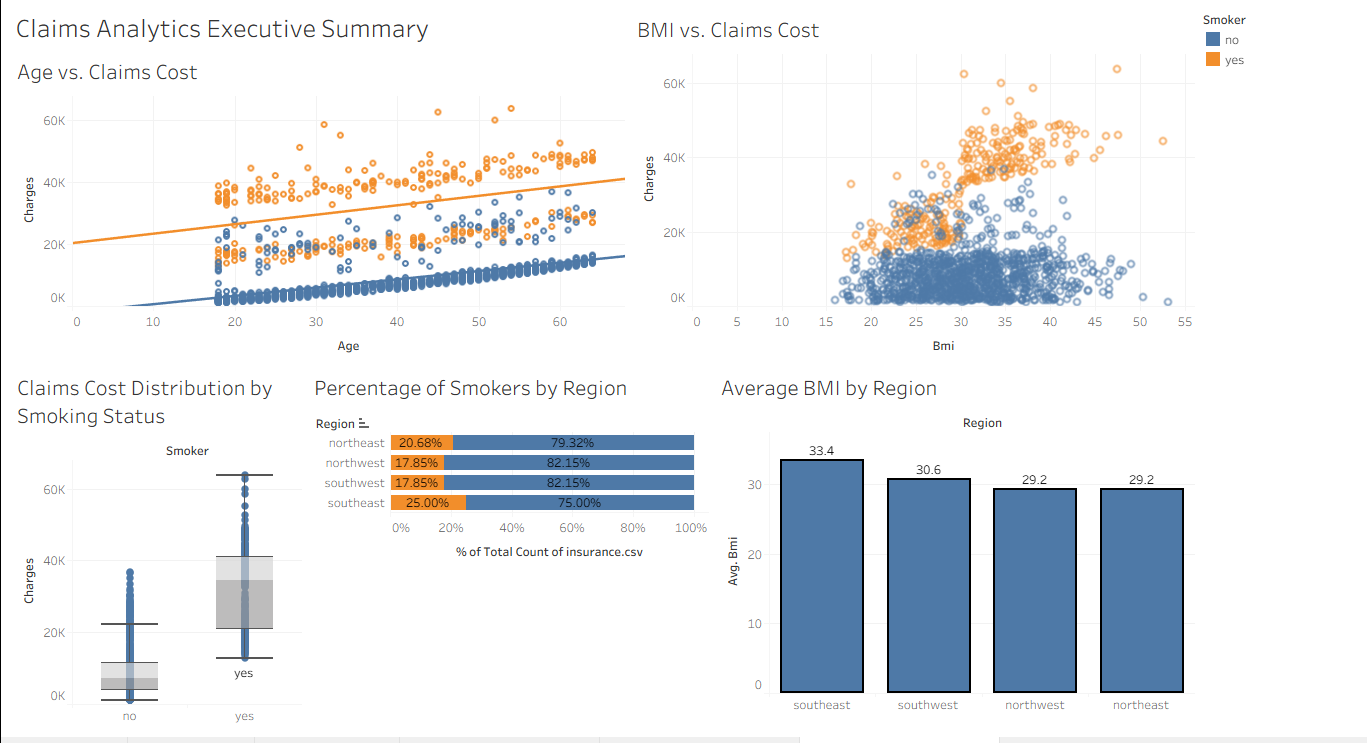

The dashboard page shown, as its layout file describes it:
{"tool":"tableau","page":{"name":"Claims Analytics Executive Summary","canvas":[1000,1000],"units":"permille","ordinal":0},"visuals":[{"type":"title","box":[6,13.5,443.3,70.9]},{"type":"worksheet","title":"BMI vs. Claims Cost","mark":"Automatic","rows":["charges"],"cols":["bmi"],"box":[449.3,13.5,425.4,483]},{"type":"legend","title":"Percentage of Smokers by Region","param":"[federated.0zg9l2d08l8def1gbhsea1u9wj7l].[none:smoker:nk]","box":[874.6,13.5,119.4,111.5]},{"type":"worksheet","title":"Age vs. Claims Cost","mark":"Automatic","rows":["charges"],"cols":["age"],"box":[6,84.5,443.3,412]},{"type":"worksheet","title":"Claims Cost Distribution by Smoking Status","mark":"Circle","rows":["charges"],"cols":["smoker"],"box":[6,496.5,217.1,490]},{"type":"worksheet","title":"Percentage of Smokers by Region","mark":"Automatic","rows":["region"],"box":[223,496.5,297,490]},{"type":"worksheet","title":"Average BMI by Region","mark":"Automatic","rows":["bmi"],"cols":["region"],"box":[520.1,496.5,354.6,490]}]}

Visuals, with their boxes on the dashboard's canvas, which has no fixed pixel size, in thousandths of its width and height (x1, y1, x2, y2). These are canvas units, not pixel positions in the 1367x743 screenshot, which may show the page scaled, cropped or inside an application window:
title: 6,14,449,84
"BMI vs. Claims Cost" worksheet: 449,14,875,496
"Percentage of Smokers by Region" legend: 875,14,994,125
"Age vs. Claims Cost" worksheet: 6,84,449,496
"Claims Cost Distribution by Smoking Status" worksheet (Circle marks): 6,496,223,986
"Percentage of Smokers by Region" worksheet: 223,496,520,986
"Average BMI by Region" worksheet: 520,496,875,986
